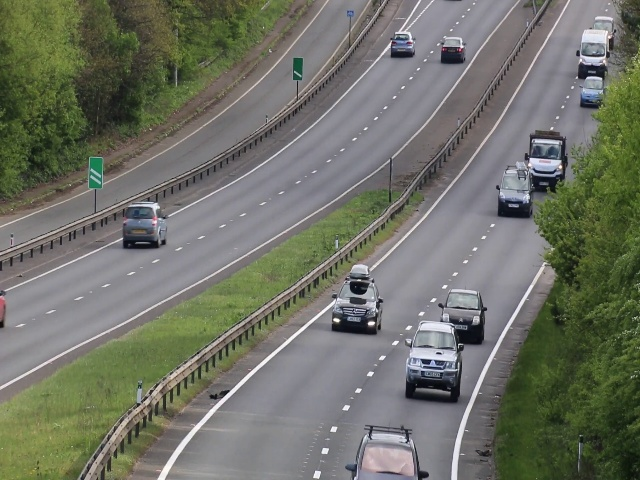car: (404, 320, 460, 399), (354, 435, 426, 480), (329, 284, 383, 331), (119, 202, 171, 248), (527, 135, 563, 187), (498, 169, 532, 217), (442, 289, 484, 327), (577, 37, 610, 74), (438, 37, 466, 63), (579, 76, 604, 104), (390, 30, 415, 56)
